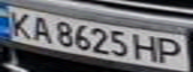2: (90, 25, 112, 56)
5: (109, 28, 133, 58)
6: (72, 22, 93, 52)
8: (51, 18, 75, 48)
A: (27, 14, 57, 44)
H: (133, 33, 163, 63)
K: (3, 8, 36, 39)
P: (154, 35, 190, 65)
